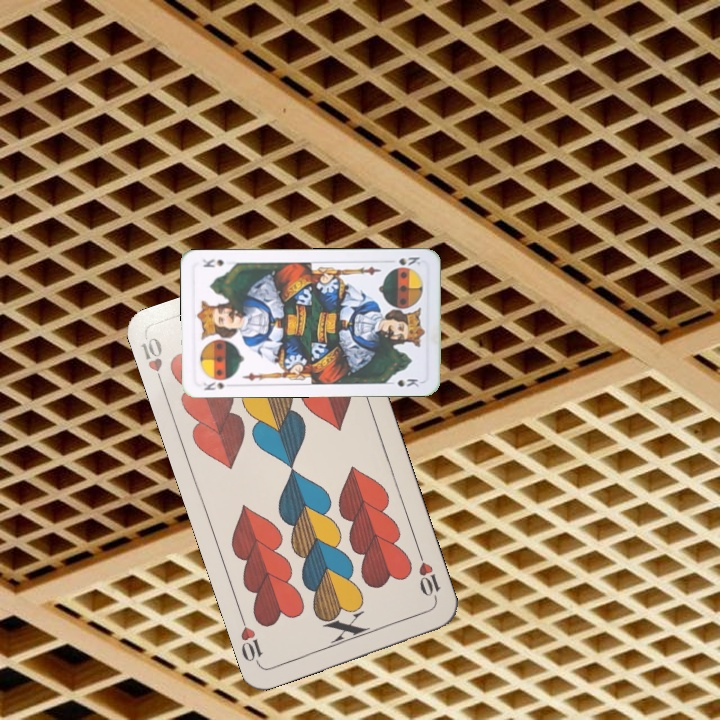H10: (137, 333, 168, 391), (414, 548, 443, 605)
SK: (384, 253, 424, 268), (199, 377, 227, 393)
